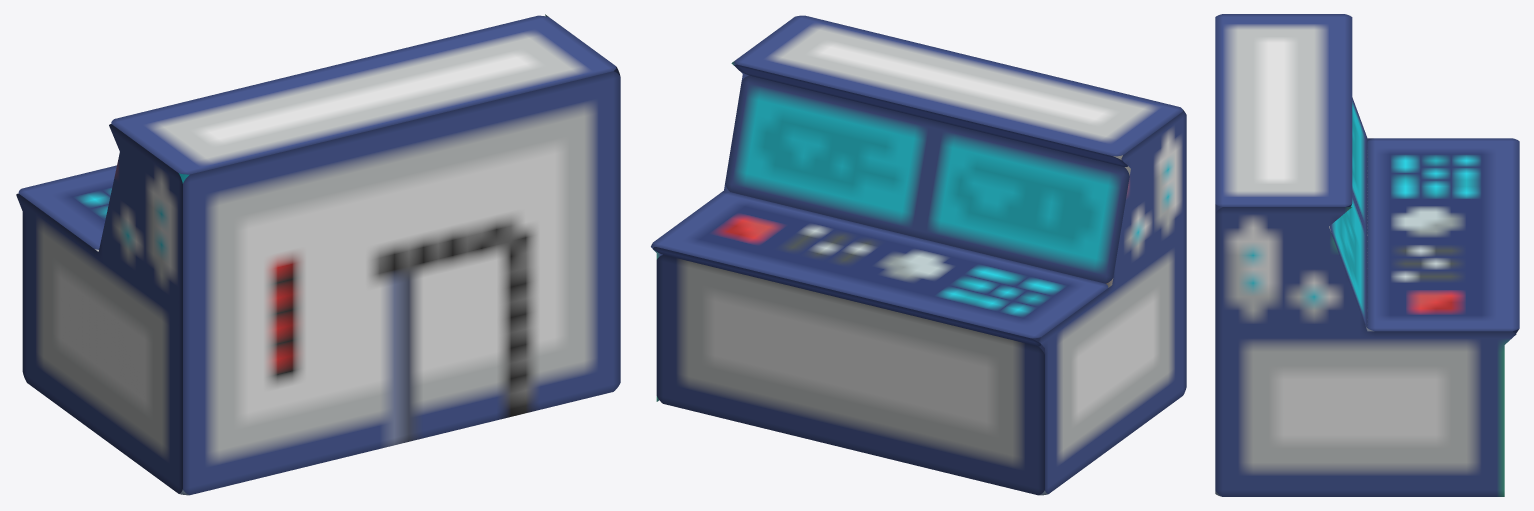
Rendered from ControlPanel.fbx.
The picture shows the model from 3 angles, left to right: view 1: azimuth 30°, elevation 25°; view 2: azimuth 150°, elevation 25°; view 3: azimuth 270°, elevation 25°; orthographic projection. The views are drawn at different scales.
Parts seen in each view (by area): view 1: cuboid; view 2: cuboid; view 3: cuboid.
Part boxes in pixels (x1,y1,x2,y2): cuboid: (16, 14, 620, 495); cuboid: (651, 15, 1186, 495); cuboid: (1215, 14, 1519, 496).
Bounding box in the file's own units: 188 × 131 × 125.
1 material, 1 textured.
